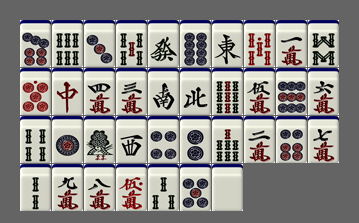0m: (116, 164, 147, 211)
0p: (20, 68, 51, 115)
0s: (244, 20, 275, 67)
1m: (276, 20, 307, 67)
1p: (52, 116, 83, 163)
1s: (84, 116, 115, 163)
1z: (212, 20, 243, 67)
2m: (244, 116, 275, 163)
2p: (180, 116, 211, 163)
2s: (20, 164, 51, 211)
2z: (148, 68, 179, 115)
3m: (116, 68, 147, 115)
3p: (84, 20, 115, 67)
3s: (148, 164, 179, 211)
3z: (116, 116, 147, 163)
4m: (84, 68, 115, 115)
4p: (148, 116, 179, 163)
4s: (20, 116, 51, 163)
4z: (180, 68, 211, 115)
5m: (244, 68, 275, 115)
5p: (180, 164, 211, 211)
5s: (116, 20, 147, 67)
5z: (212, 164, 243, 211)
6m: (308, 68, 339, 115)
6p: (276, 116, 307, 163)
6s: (52, 20, 83, 67)
6z: (148, 20, 179, 67)
7m: (308, 116, 339, 163)
7p: (20, 20, 51, 67)
7s: (212, 116, 243, 163)
7z: (52, 68, 83, 115)
8m: (84, 164, 115, 211)
8p: (180, 20, 211, 67)
8s: (308, 20, 339, 67)
9m: (52, 164, 83, 211)
9p: (276, 68, 307, 115)
9s: (212, 68, 243, 115)
